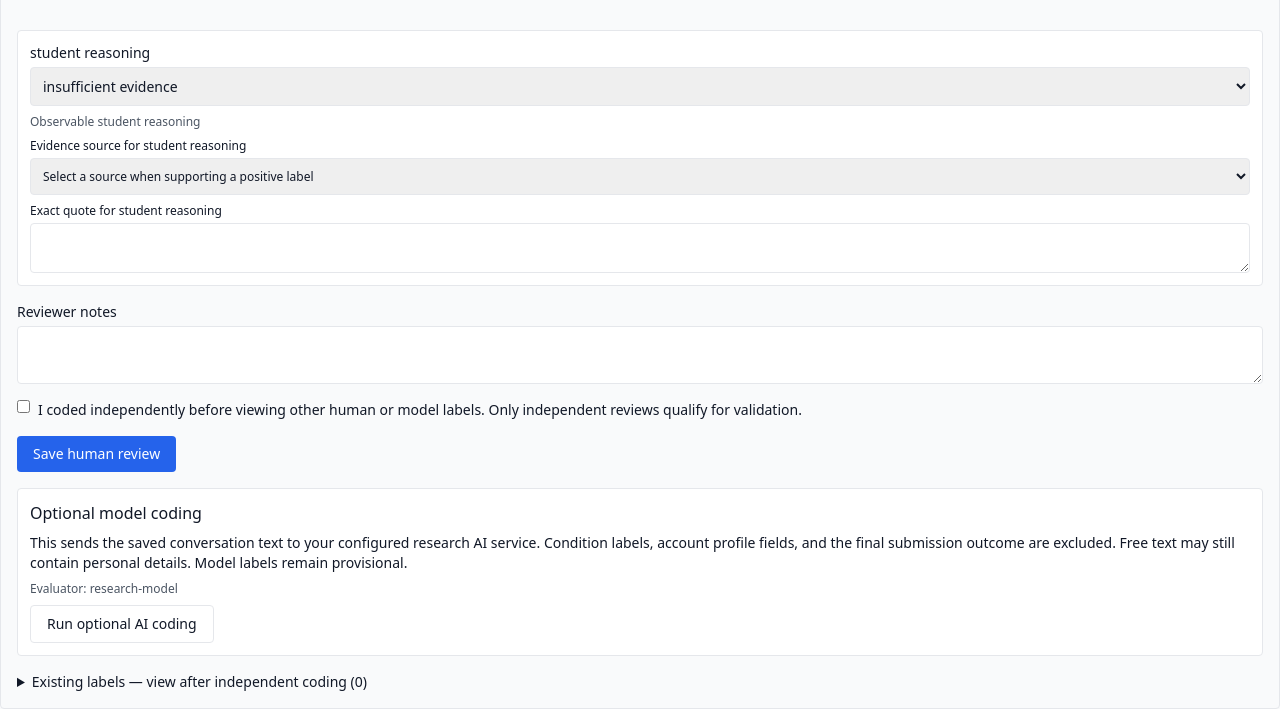
model coding is explicit and remains provisional
(page scrolled)
Check: the text "sends the saved conversation text" is shown, box [30,533,1235,572]
Step 1. Click the button "Run optional AI coding" → (122, 624), box [30,605,214,643]
(page scrolled)
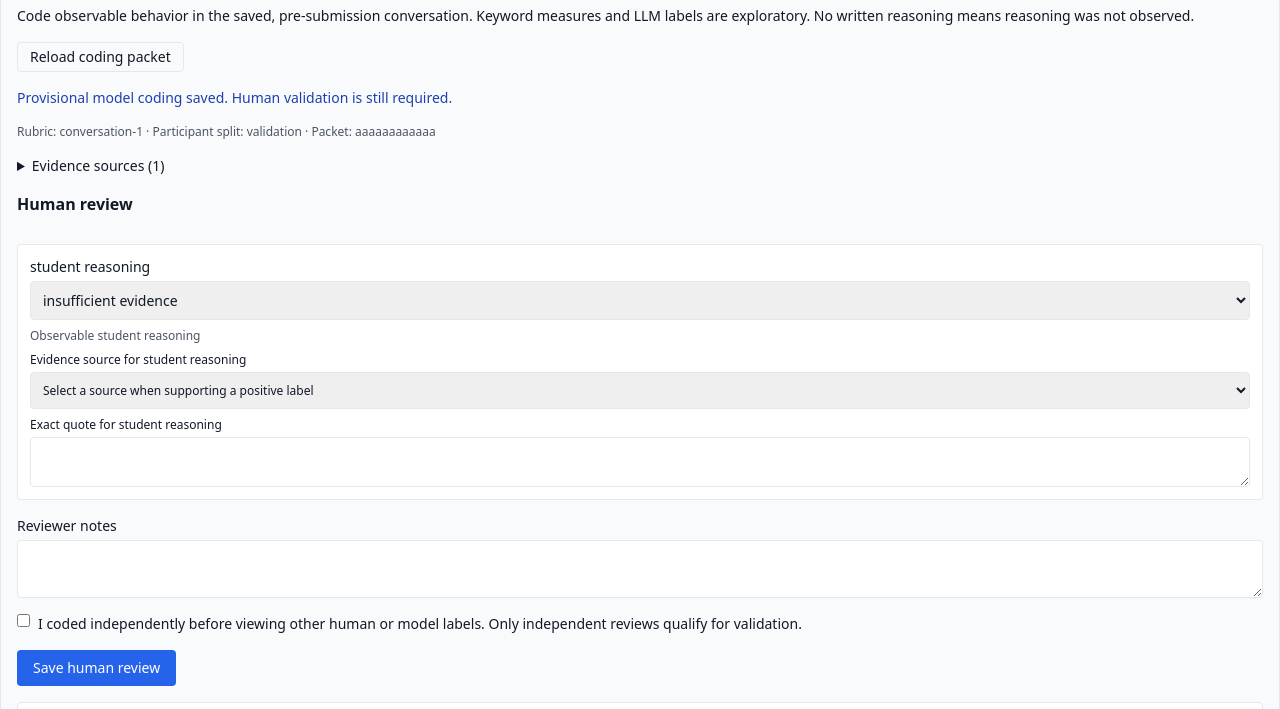
Check: the text "Provisional model coding saved. Human validation is still required." is shown, box [17,88,452,107]
